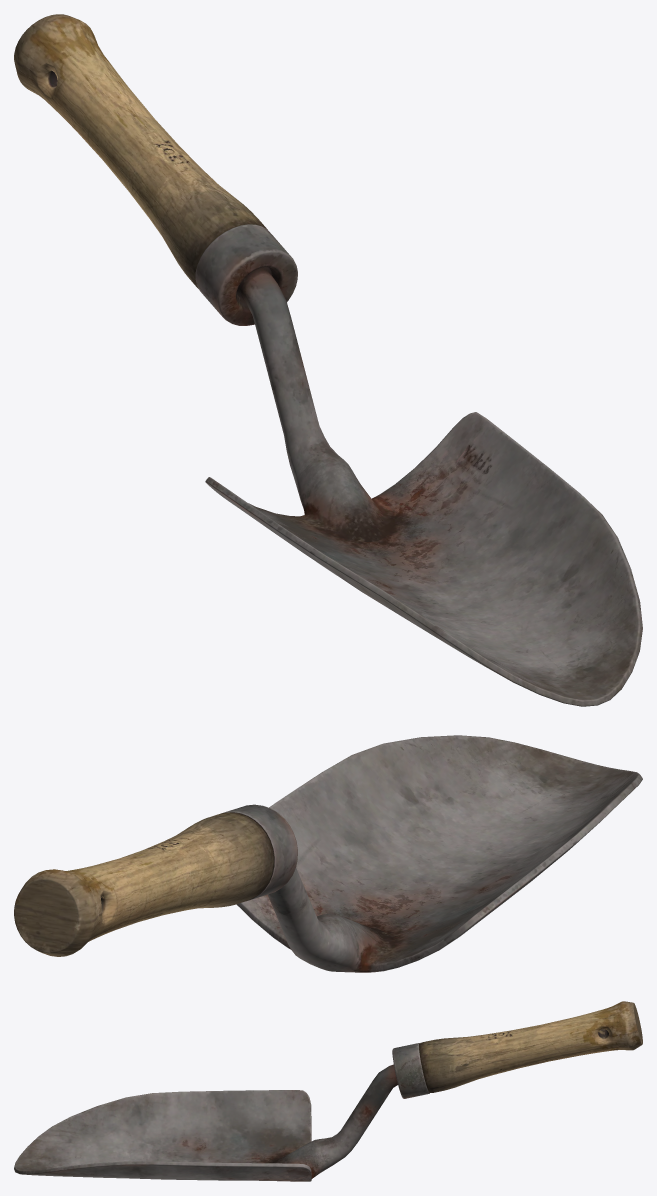
File: trowel_01.glb
3 views of the same model, one above another, from view 1: azimuth 30°, elevation 25°; view 2: azimuth 150°, elevation 25°; view 3: azimuth 270°, elevation 25° (orthographic). The views are drawn at different scales.
Parts seen in each view (by area): view 1: trowel_01; view 2: trowel_01; view 3: trowel_01.
Boxes of the visible parts, x1=… form: trowel_01: x1=14, y1=14, x2=642, y2=706; trowel_01: x1=14, y1=735, x2=642, y2=972; trowel_01: x1=14, y1=1001, x2=642, y2=1181.
Size of the model in its own units: 0.0991 by 0.1026 by 0.3469.
Materials: 1 (1 with a texture image).
